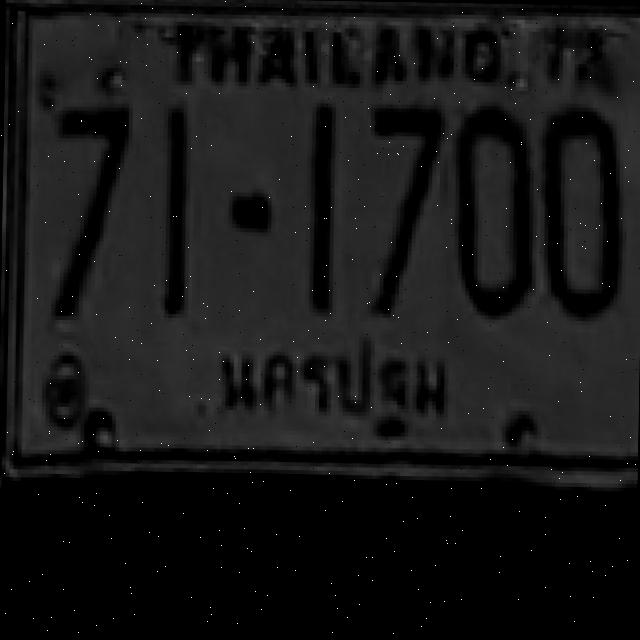0: (538, 104, 620, 316), (449, 103, 531, 314)
1: (304, 106, 336, 312), (162, 104, 189, 302)
7: (49, 104, 131, 315), (367, 102, 441, 308)
NakhonPathom: (208, 322, 450, 435)
